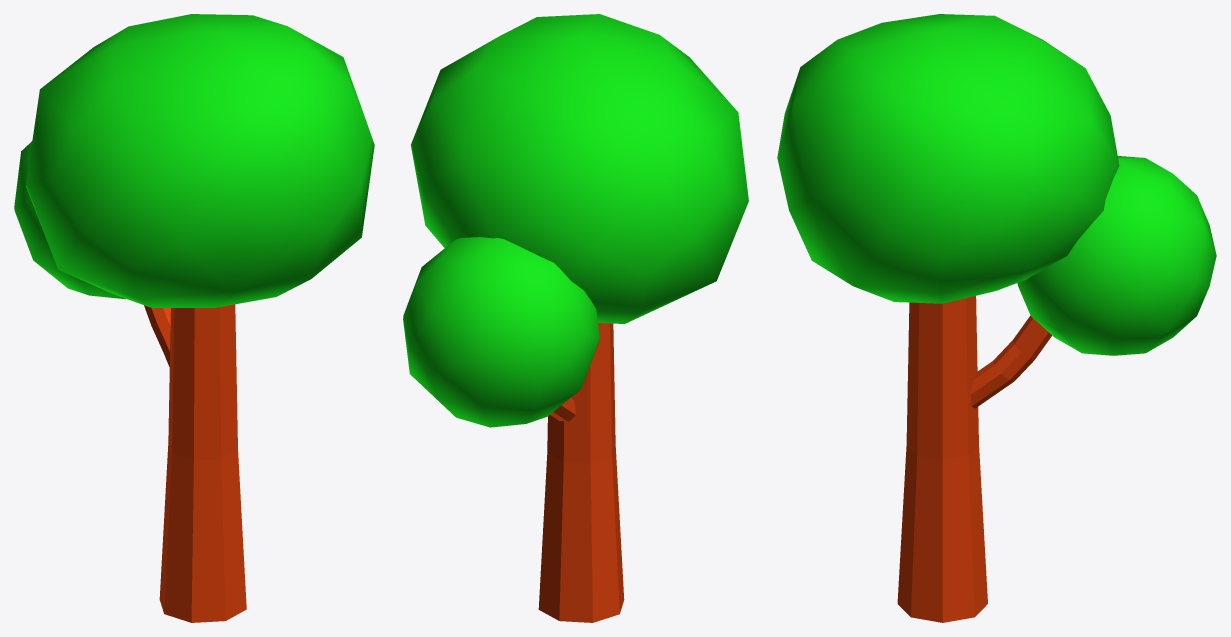
File: tree_2.fbx
The picture shows the model from 3 angles, left to right: view 1: azimuth 30°, elevation 25°; view 2: azimuth 150°, elevation 25°; view 3: azimuth 270°, elevation 25°; orthographic projection. The views are drawn at different scales.
Visible parts, largest first — view 1: Cylinder.000; view 2: Cylinder.000; view 3: Cylinder.000.
Part boxes in pixels (left/top/right/bottom): Cylinder.000: left=14, top=14, right=374, bottom=622; Cylinder.000: left=403, top=14, right=748, bottom=622; Cylinder.000: left=777, top=14, right=1216, bottom=622.
Bounding box in the file's own units: 386 × 703 × 485.
